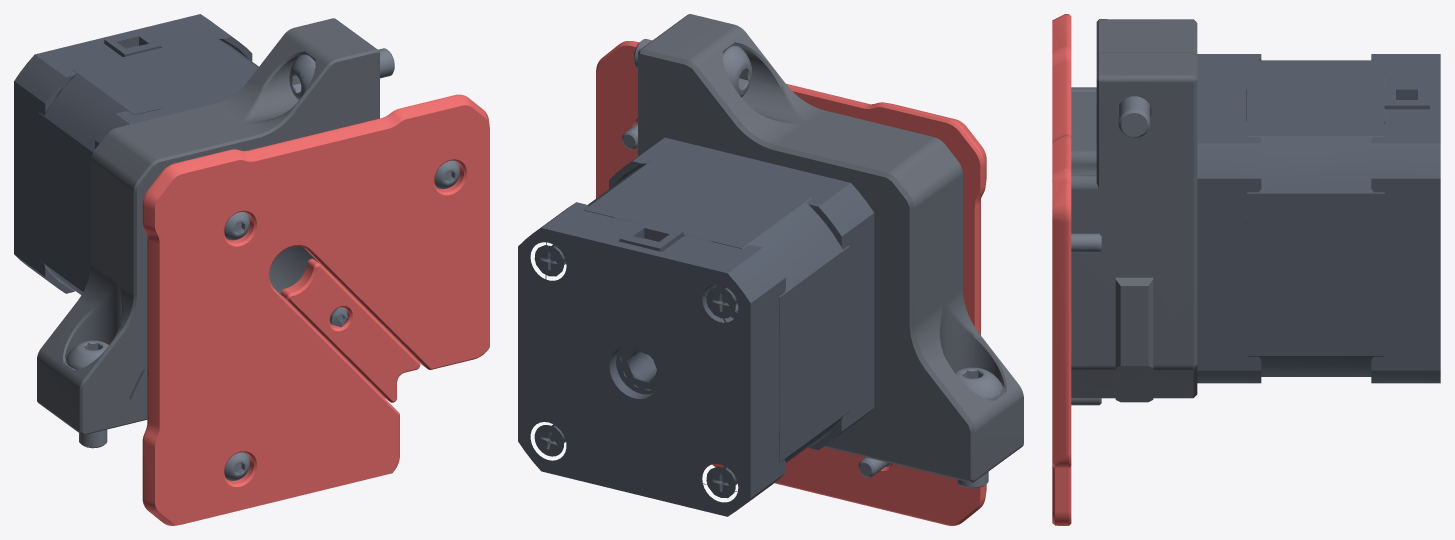
3 views of the same model, side by side, from view 1: azimuth 30°, elevation 25°; view 2: azimuth 150°, elevation 25°; view 3: azimuth 270°, elevation 25° (orthographic). The views are drawn at different scales.
Parts seen in each view (by area): view 1: [a]_z_cover_right, z_stepper_right, motor_body, [a]_z_cover_right_14, m5x16_bhcs_v1, m5x16_bhcs_v1_11, m3x6_bhcs__6__7, m3x6_bhcs__6_, m3x6_bhcs__6__6; view 2: motor_body, z_stepper_right, [a]_z_cover_right, m5x16_bhcs_v1, m5x16_bhcs_v1_11; view 3: motor_body, z_stepper_right, [a]_z_cover_right, m5x16_bhcs_v1_11, m3x6_bhcs__6_.
Boxes of the visible parts, x1,y1,x2,y2 form: [a]_z_cover_right: (142,94,489,525); z_stepper_right: (37,18,379,435); motor_body: (14,14,258,294); [a]_z_cover_right_14: (281,258,420,402); m5x16_bhcs_v1: (66,340,108,448); m5x16_bhcs_v1_11: (289,48,394,100); m3x6_bhcs__6__7: (224,212,249,240); m3x6_bhcs__6_: (434,160,459,189); m3x6_bhcs__6__6: (224,452,249,480); motor_body: (518,137,874,516); z_stepper_right: (638,14,1023,482); [a]_z_cover_right: (596,41,986,525); m5x16_bhcs_v1: (955,367,1003,488); m5x16_bhcs_v1_11: (633,39,752,97); motor_body: (1197,54,1440,383); z_stepper_right: (1071,19,1197,402); [a]_z_cover_right: (1052,14,1071,525); m5x16_bhcs_v1_11: (1118,96,1150,137); m3x6_bhcs__6_: (1071,233,1101,252).
Size of the model in its own units: 0.08 by 0.08 by 0.0616.
